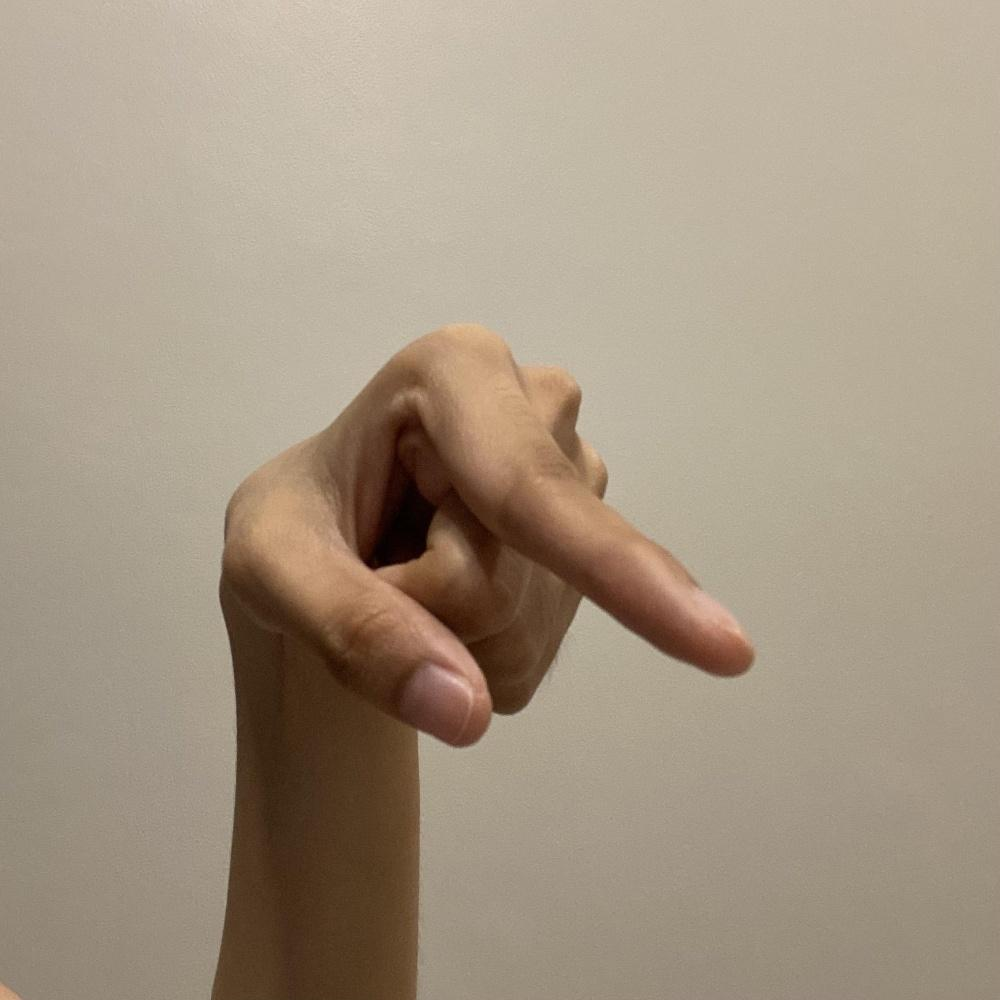z: (215, 317, 767, 750)
